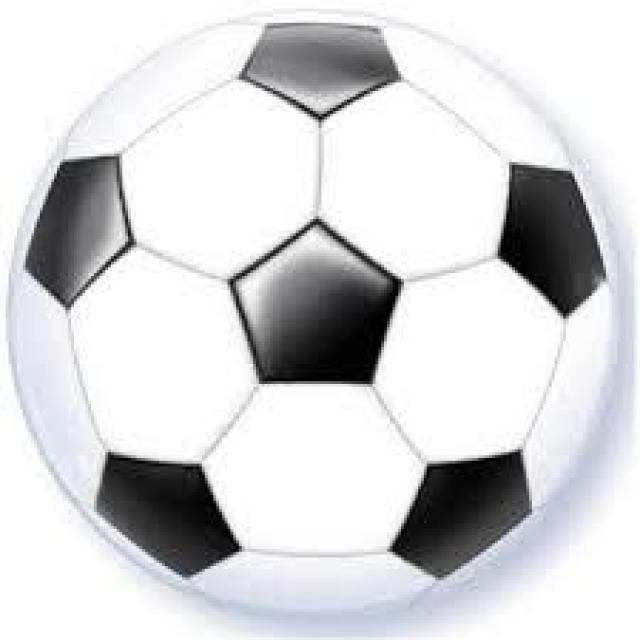Soccer Ball: (3, 20, 640, 614)
